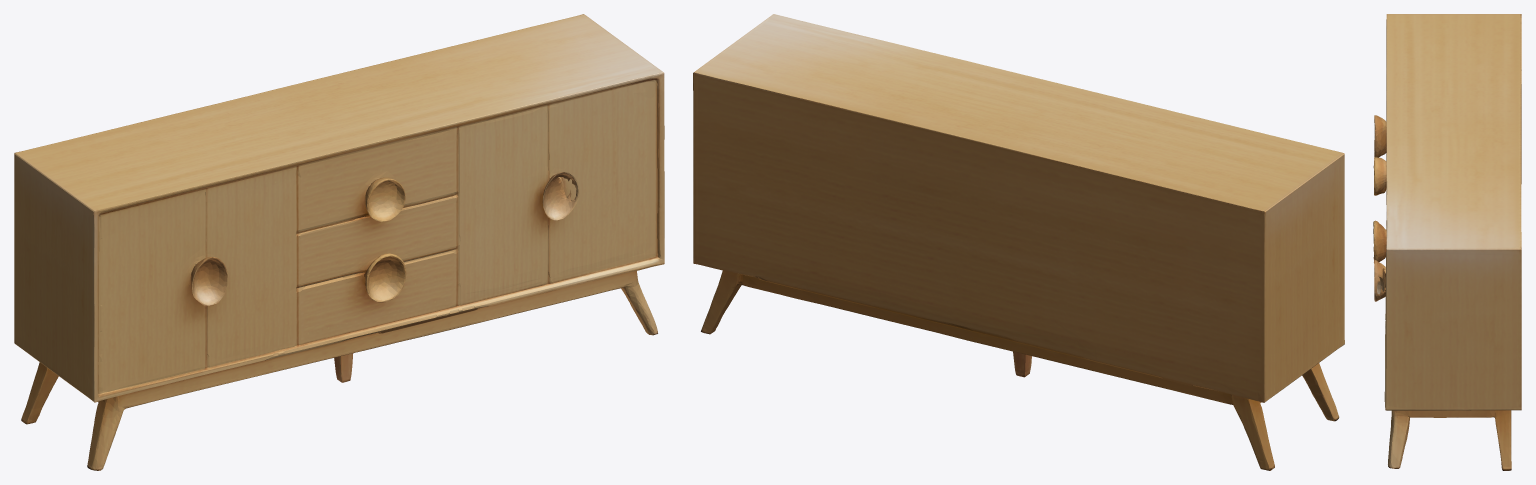
The model's file is BUFETERA PLATOS NUEZ.glb.
3 views of the same model, side by side, from view 1: azimuth 30°, elevation 25°; view 2: azimuth 150°, elevation 25°; view 3: azimuth 270°, elevation 25° (orthographic). The views are drawn at different scales.
Visible parts, largest first — view 1: world; view 2: world; view 3: world.
Part boxes in pixels (box(x1,y1,x2,y2)): world: box(14, 14, 664, 470); world: box(693, 14, 1344, 470); world: box(1373, 14, 1521, 470).
Bounding box in the file's own units: 1.8 × 0.8 × 0.48.
Materials: 1 (1 with a texture image).
